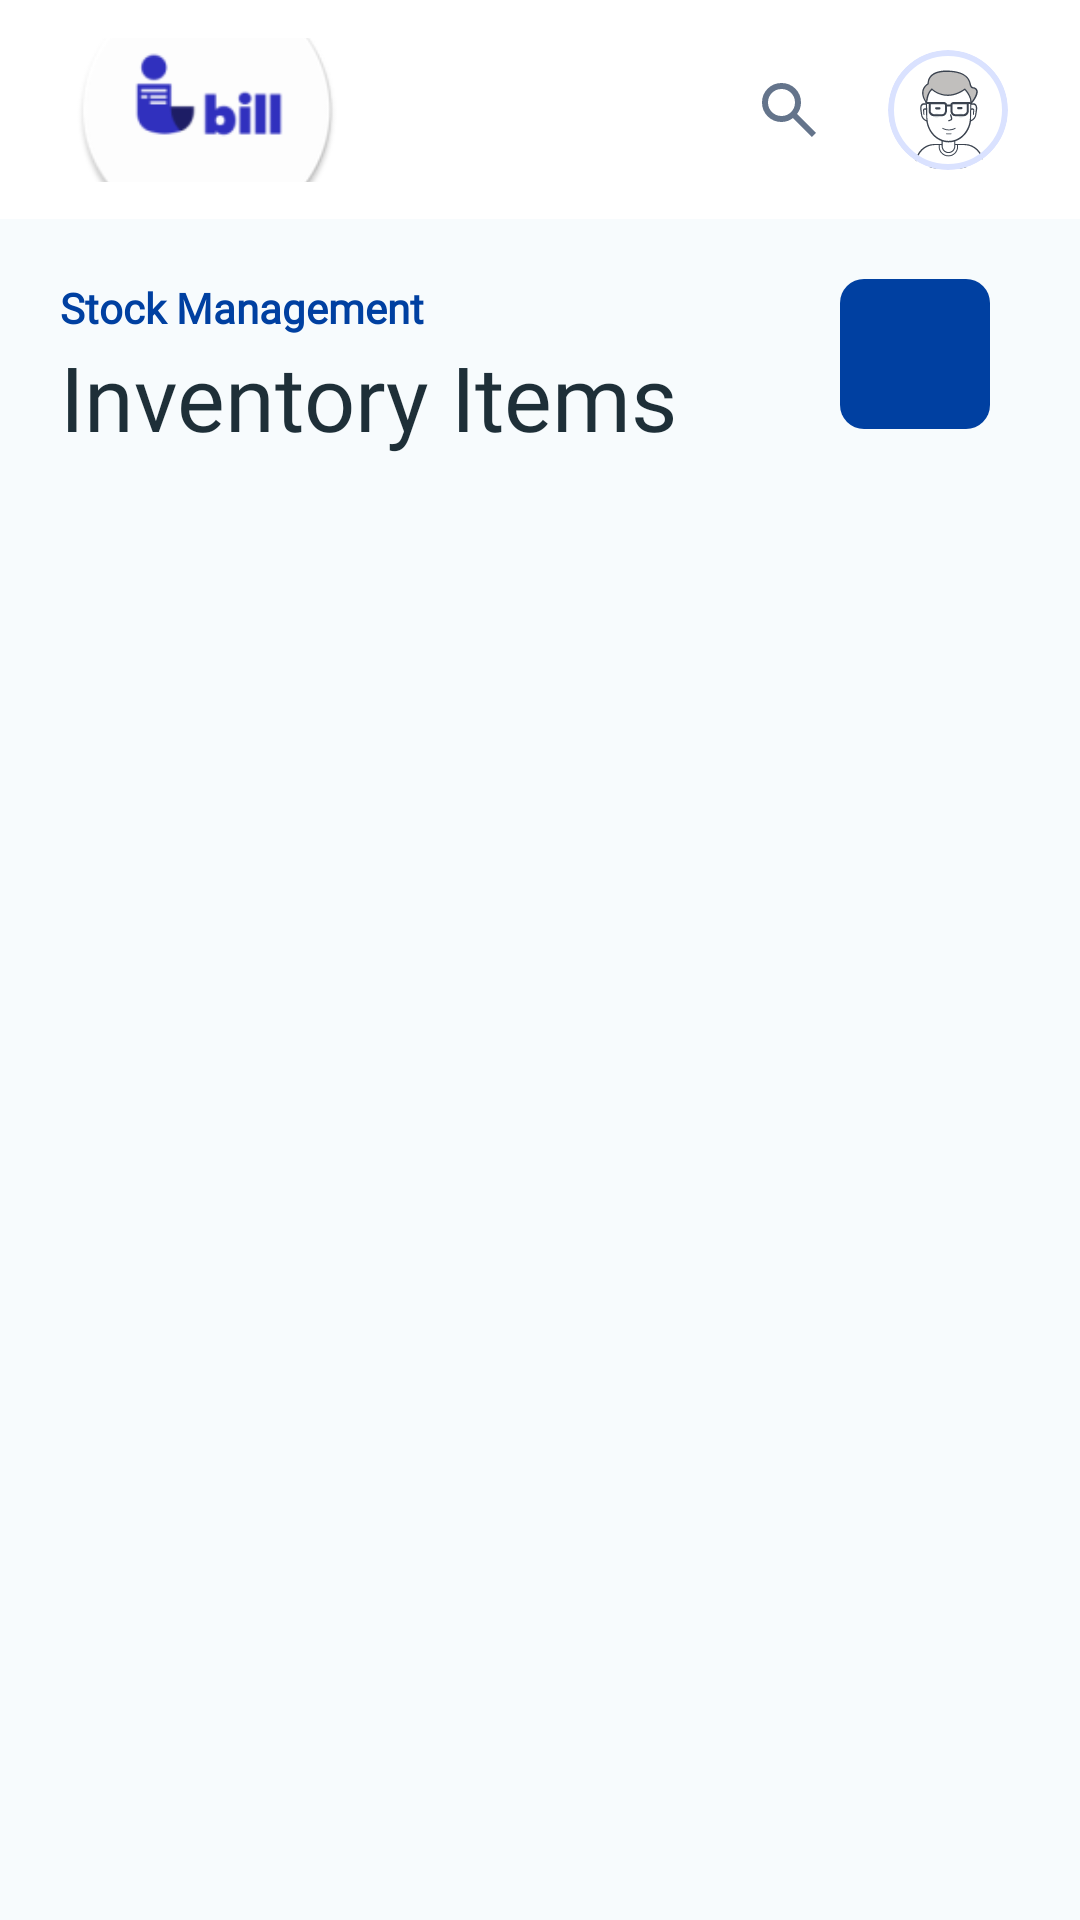

Named icons in this screenshot (1080 × 1920) and their centers, point (x, y):
search: point (789, 110)
user profile: point (948, 110)
